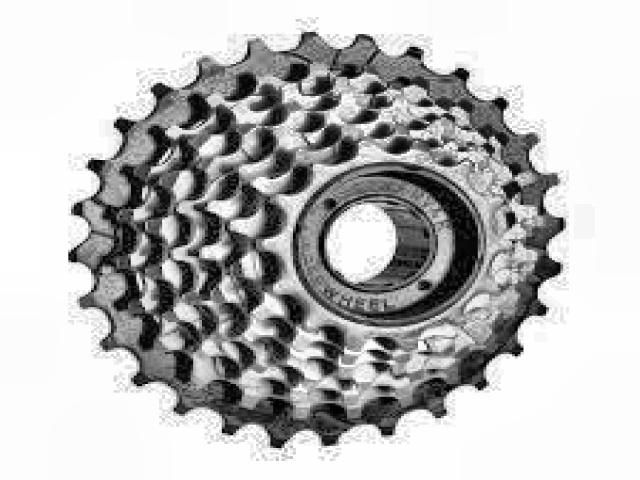cassette: (62, 30, 565, 454)
